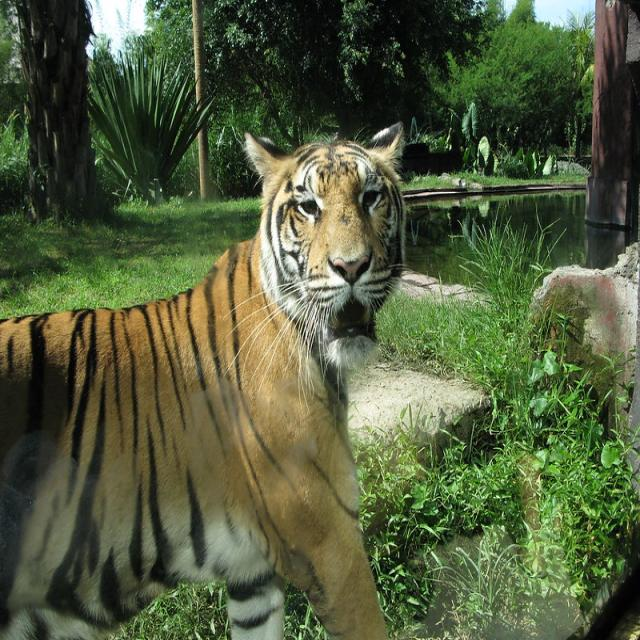Tiger: (0, 119, 413, 639)
